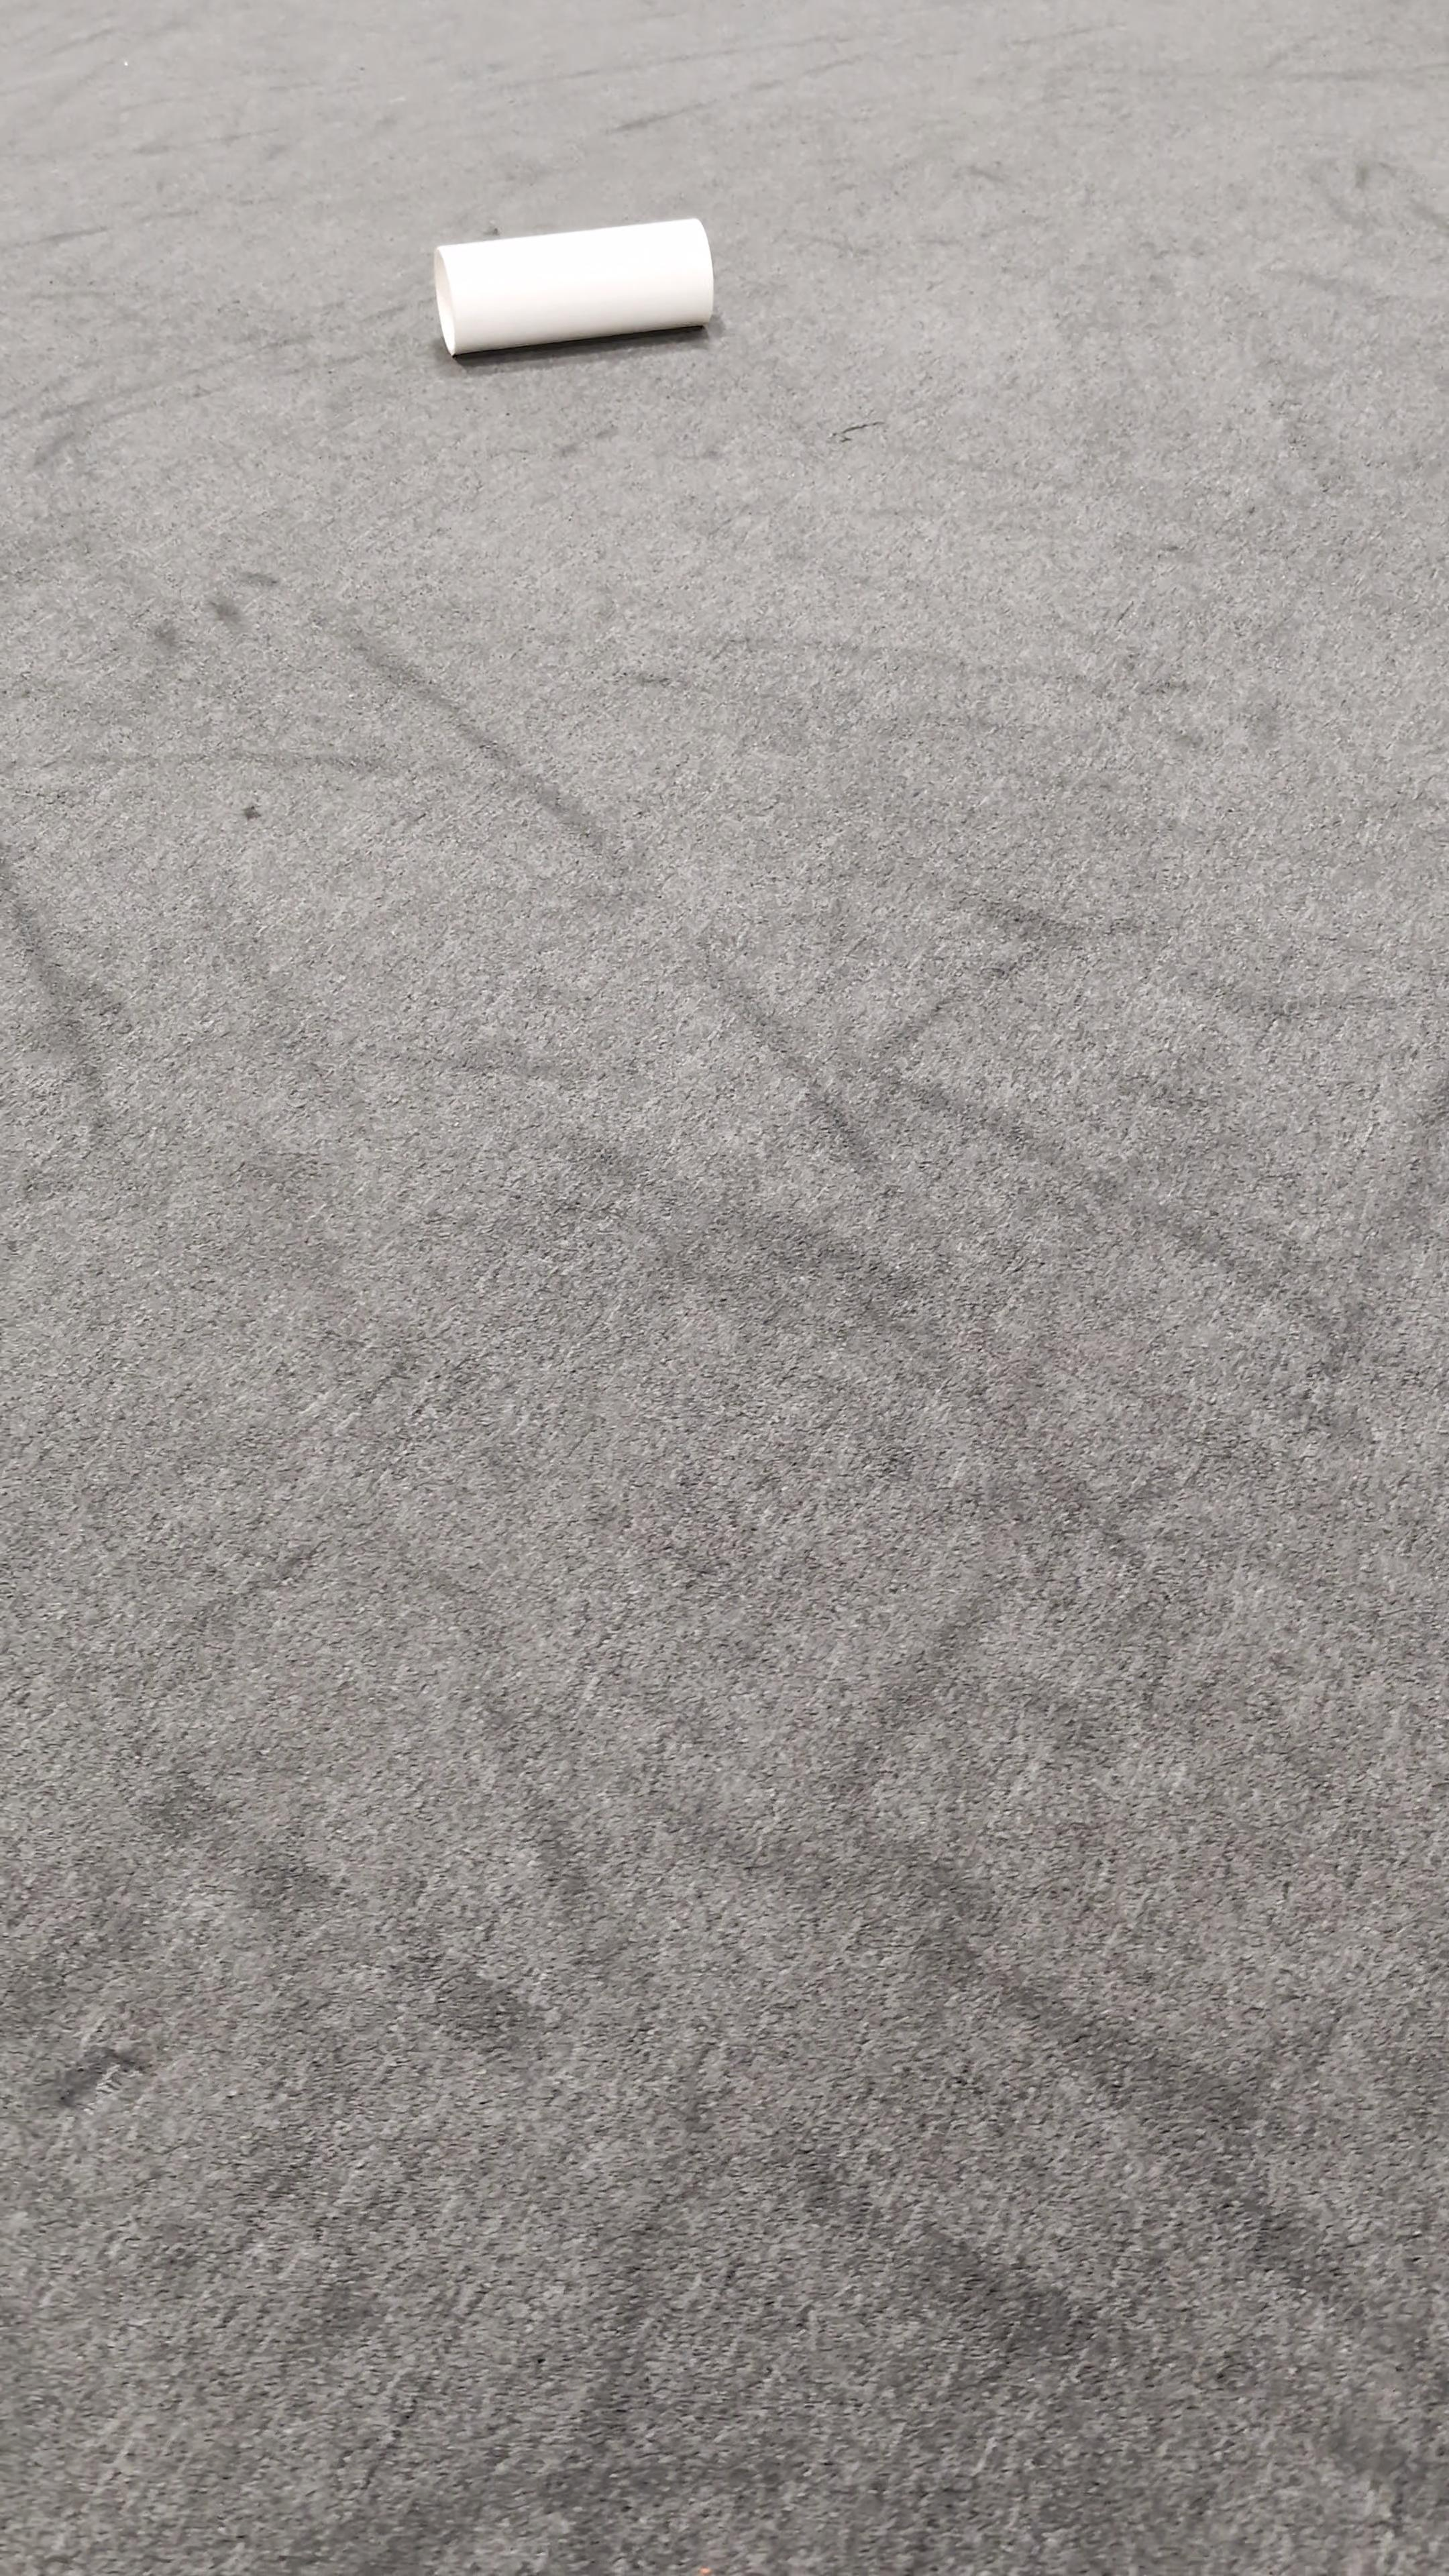coral: (435, 212, 715, 357)
